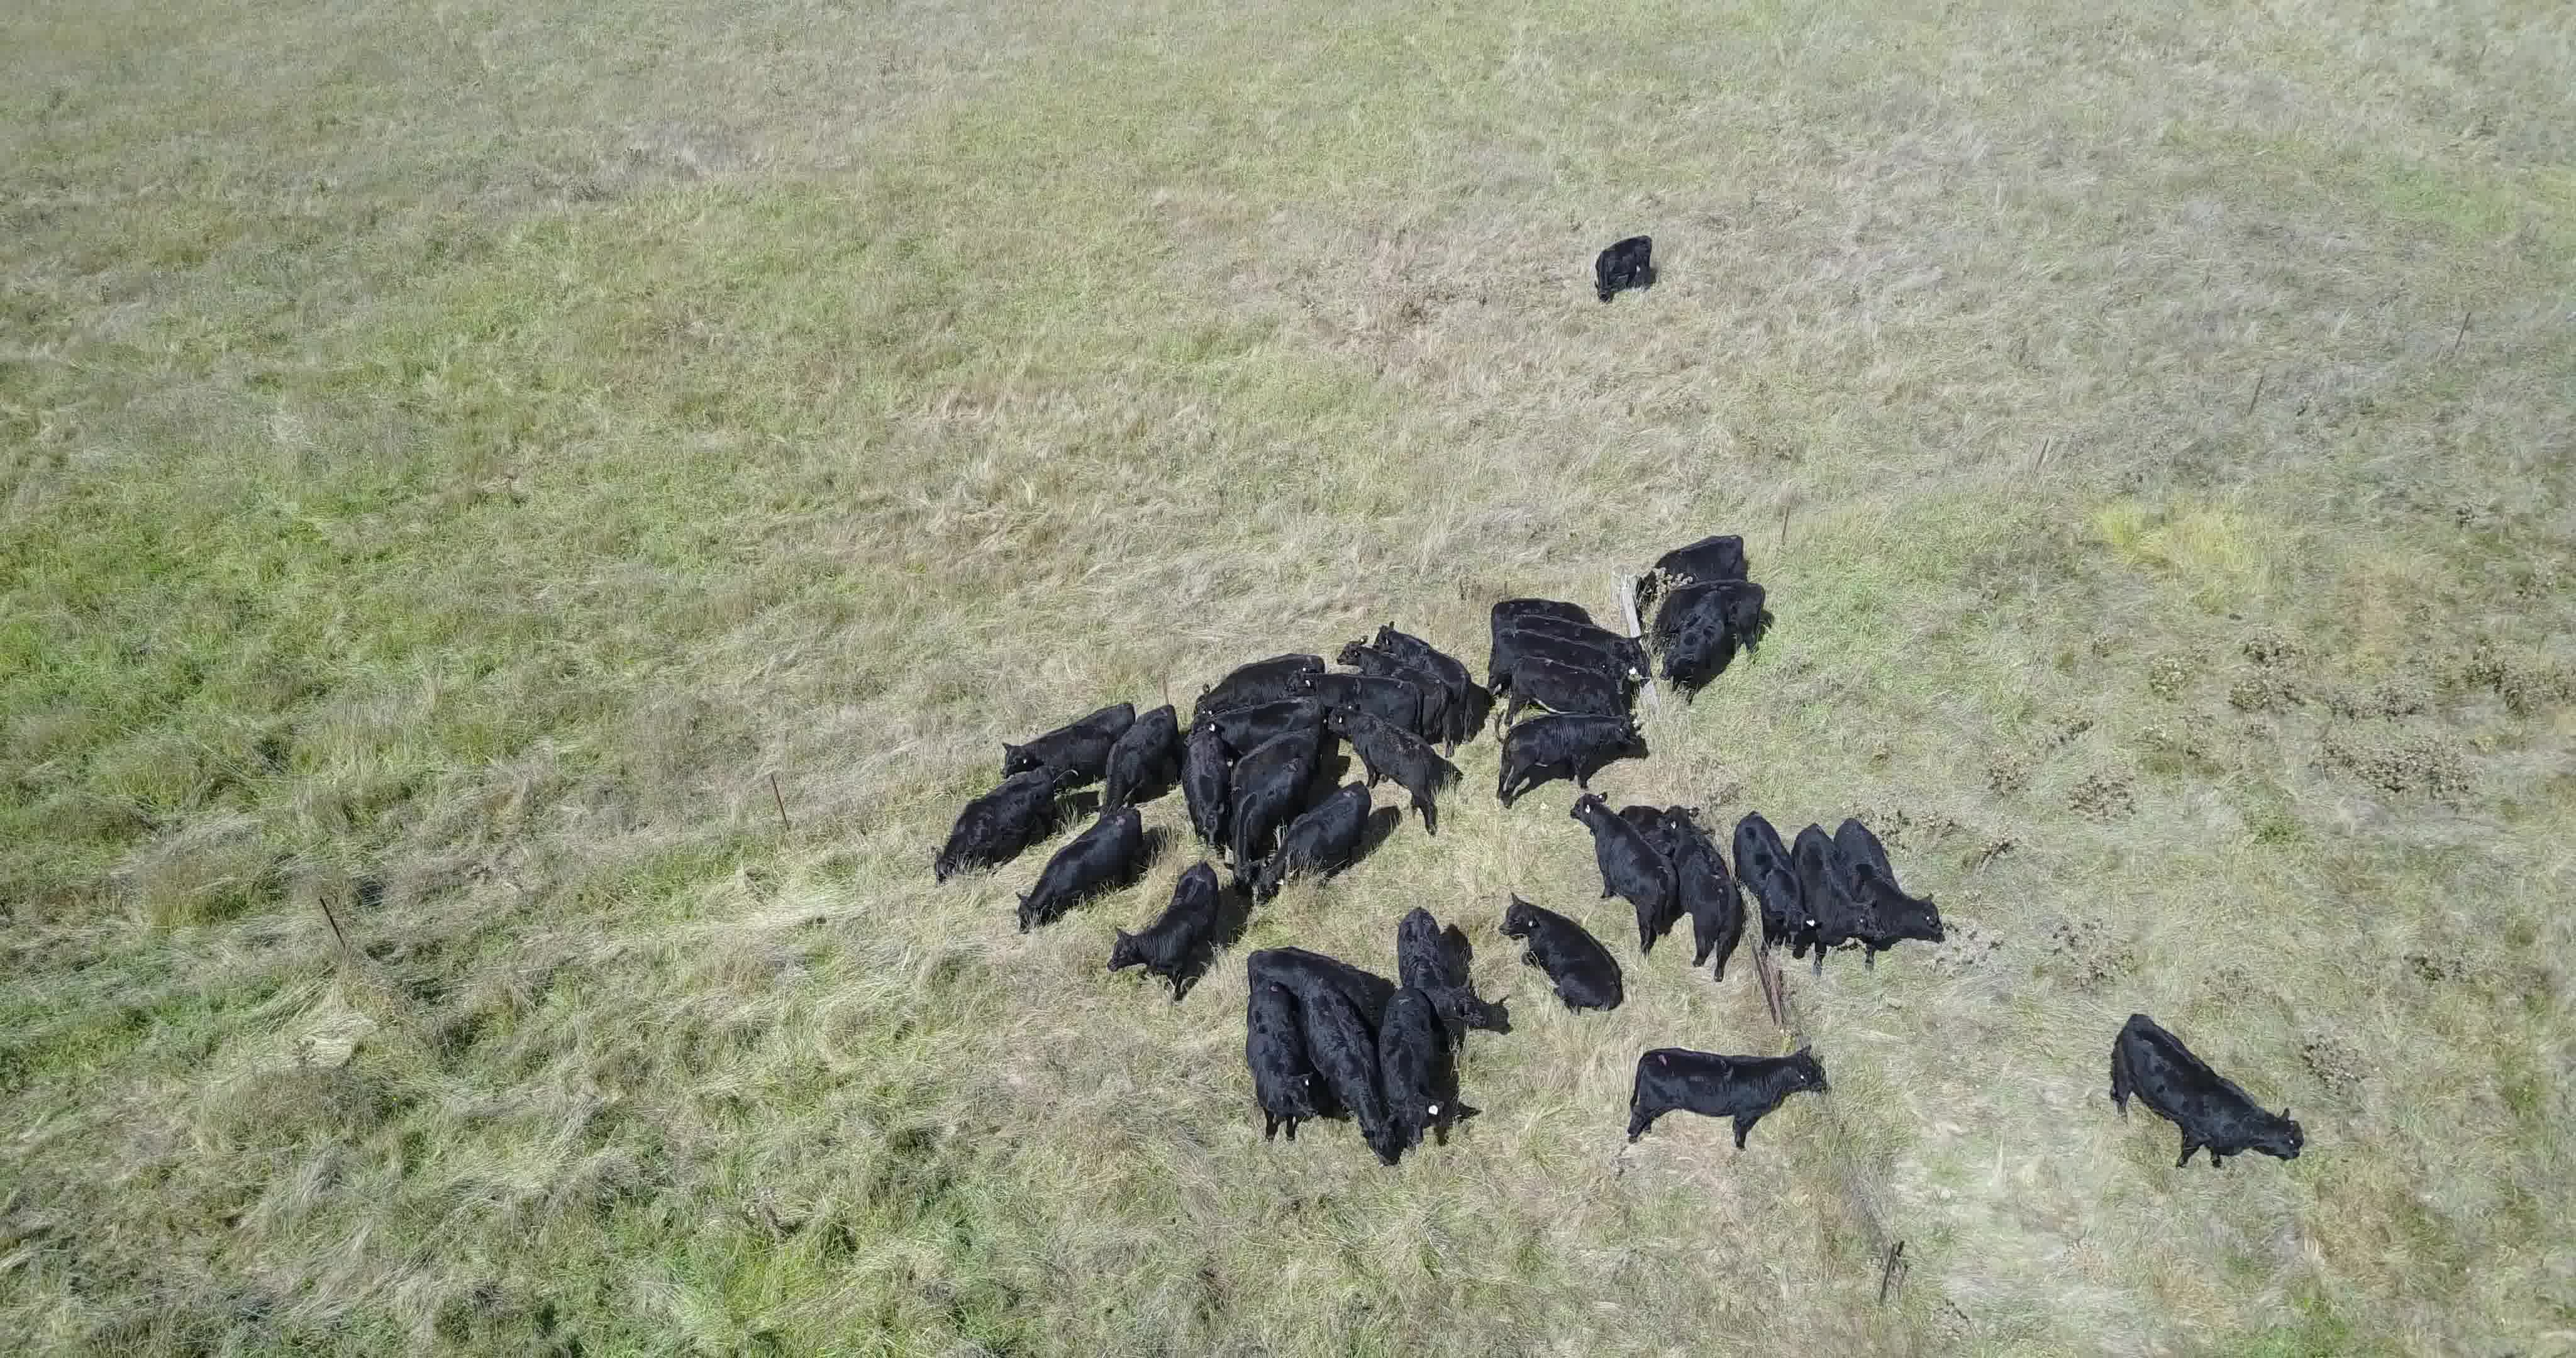cattle: (1625, 1039, 1826, 1154), (1106, 862, 1220, 1012), (1302, 987, 1394, 1171), (1654, 794, 1743, 980), (1574, 785, 1676, 946), (1009, 804, 1141, 927), (1843, 811, 1963, 947), (1503, 891, 1627, 1017), (917, 768, 1058, 874), (1259, 779, 1375, 901), (1331, 705, 1445, 814), (1797, 816, 1884, 958), (1501, 711, 1642, 797), (1738, 803, 1814, 963), (1375, 990, 1452, 1135), (1395, 906, 1487, 1024), (1087, 700, 1176, 816), (1247, 983, 1315, 1133), (1498, 624, 1632, 699), (995, 700, 1131, 767), (1247, 941, 1387, 1005), (1334, 634, 1446, 709), (1375, 617, 1477, 699), (1515, 610, 1646, 673), (1509, 656, 1625, 722), (1228, 731, 1278, 883), (1279, 668, 1423, 719), (1186, 649, 1319, 700), (1630, 537, 1751, 588), (1675, 590, 1726, 707), (1644, 578, 1772, 624), (1583, 232, 1665, 298), (1186, 728, 1228, 852), (1489, 590, 1605, 629), (1194, 705, 1322, 734)
